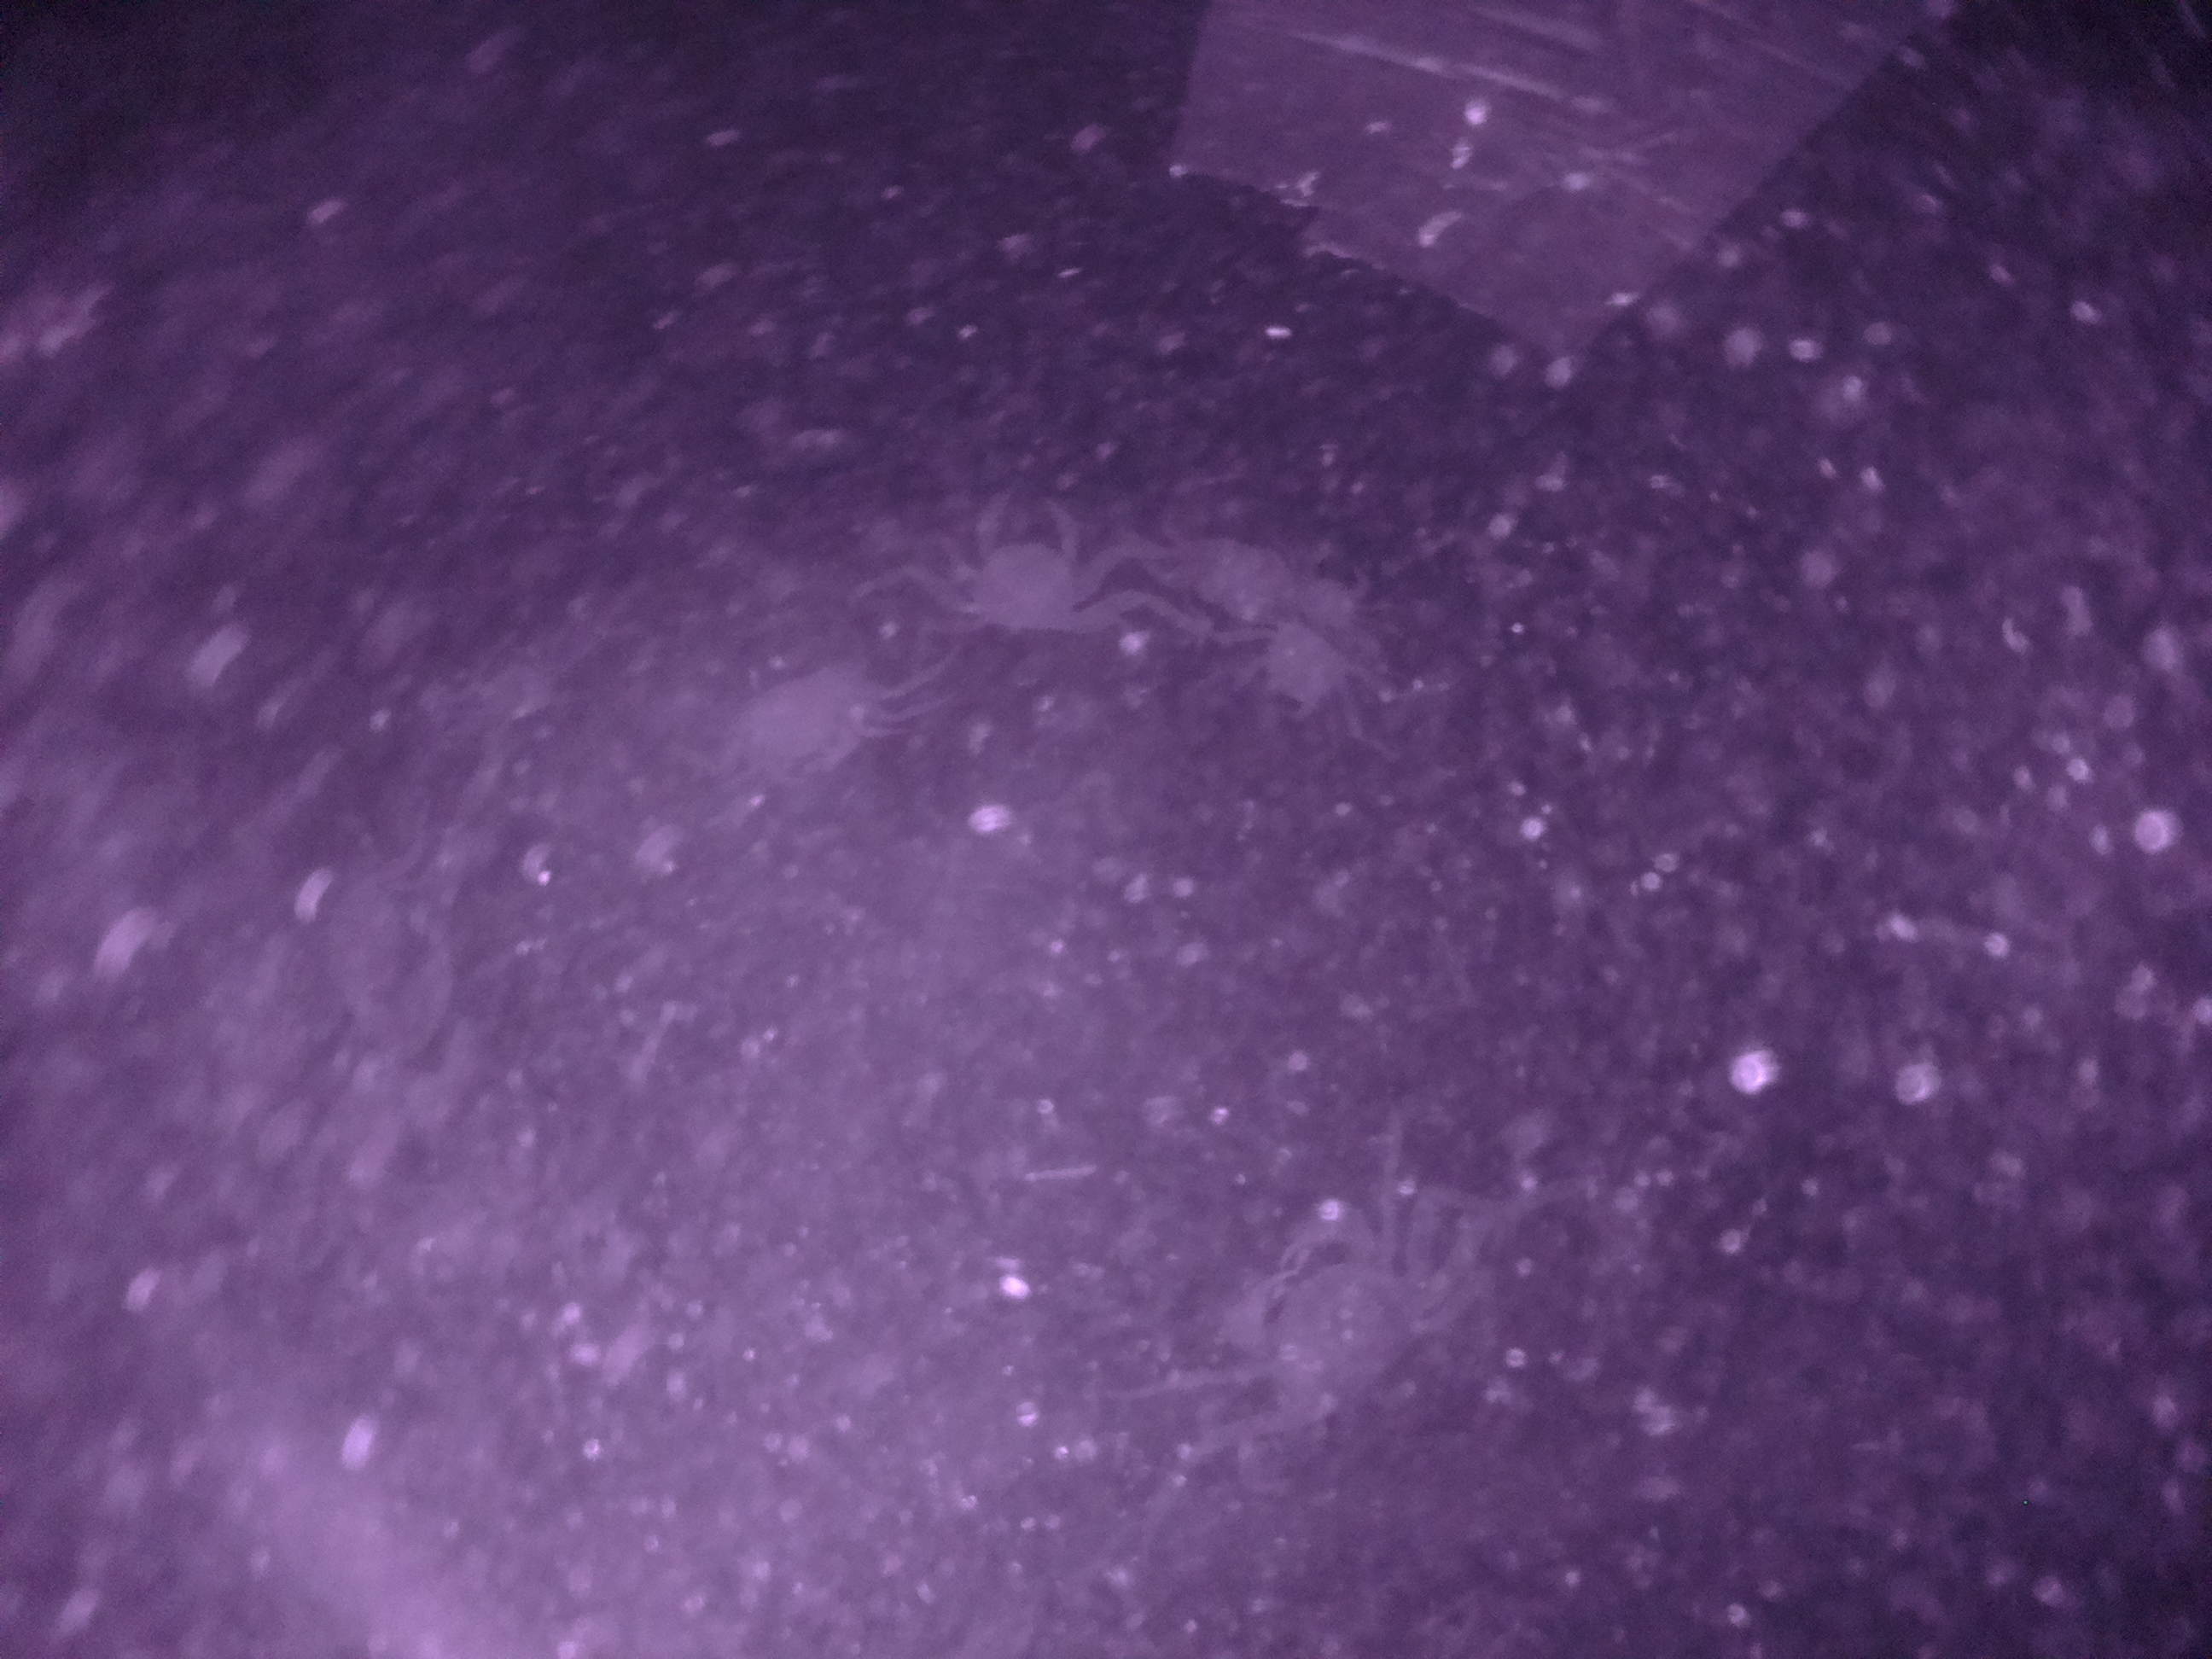Crab: (1212, 1171, 1463, 1500), (939, 469, 1109, 653)
